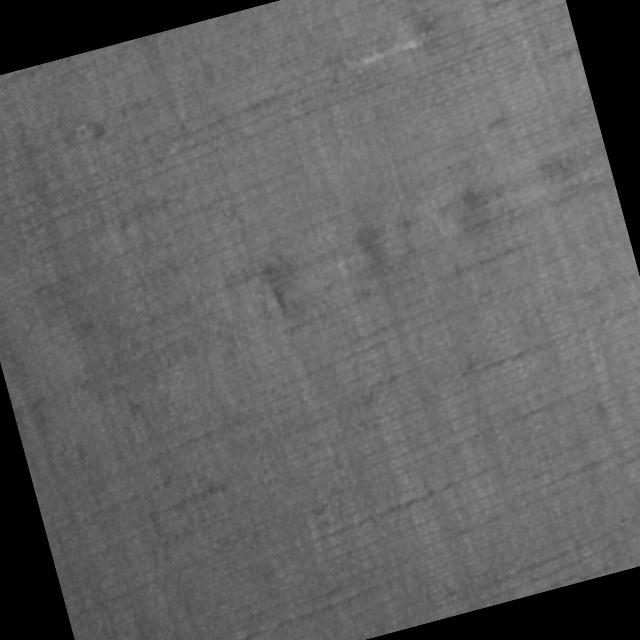thread error: (237, 130, 631, 340), (339, 22, 449, 78)
